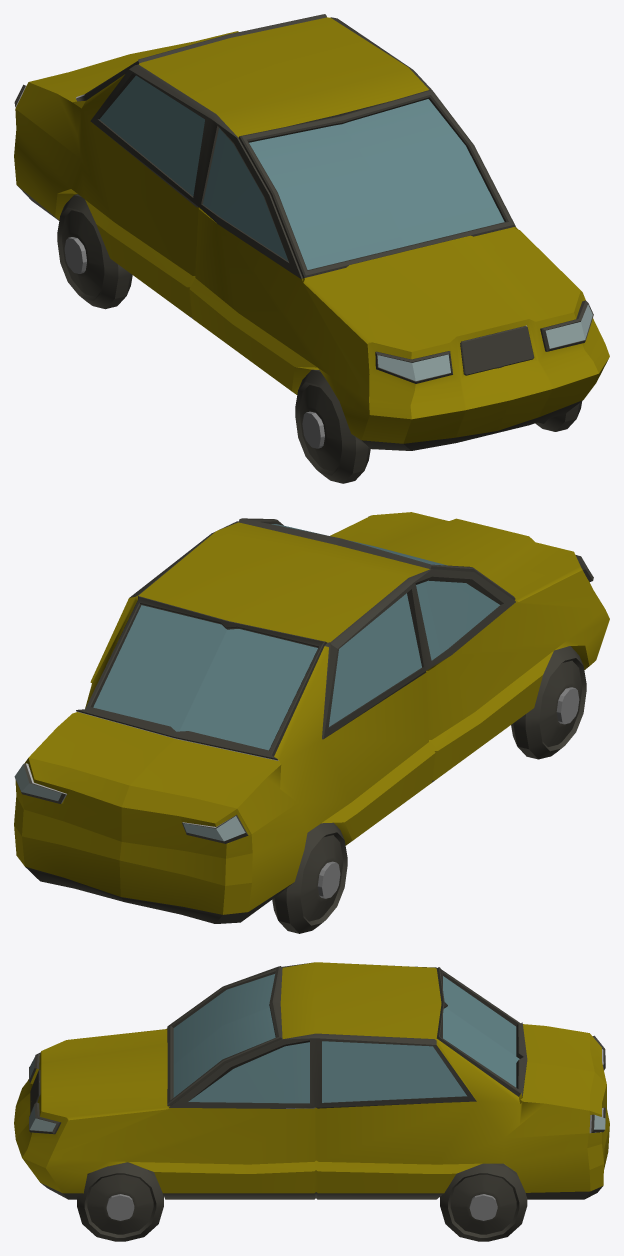
Rendered from Car.fbx.
3 renders of one model, top to bottom at view 1: azimuth 30°, elevation 25°; view 2: azimuth 150°, elevation 25°; view 3: azimuth 270°, elevation 25°, orthographic. The views are drawn at different scales.
Parts seen in each view (by area): view 1: pasted__pasted__pasted__pCube1, pasted__pCube1, pasted__pasted__pCube1; view 2: pasted__pasted__pasted__pCube1, pasted__pasted__pCube1, pasted__pCube1; view 3: pasted__pasted__pasted__pCube1 (×2), pasted__pasted__pCube1.
Boxes of the visible parts, x1=… form: pasted__pasted__pasted__pCube1: x1=14, y1=14, x2=609, y2=450; pasted__pCube1: x1=295, y1=369, x2=370, y2=483; pasted__pasted__pCube1: x1=57, y1=194, x2=132, y2=309; pasted__pasted__pasted__pCube1: x1=14, y1=512, x2=609, y2=923; pasted__pasted__pCube1: x1=272, y1=822, x2=347, y2=933; pasted__pCube1: x1=511, y1=646, x2=586, y2=759; pasted__pasted__pasted__pCube1 (×2): x1=14, y1=962, x2=609, y2=1241; pasted__pasted__pCube1: x1=77, y1=1162, x2=163, y2=1241.
Bounding box in the file's own units: 33.59 × 33.38 × 88.92.
